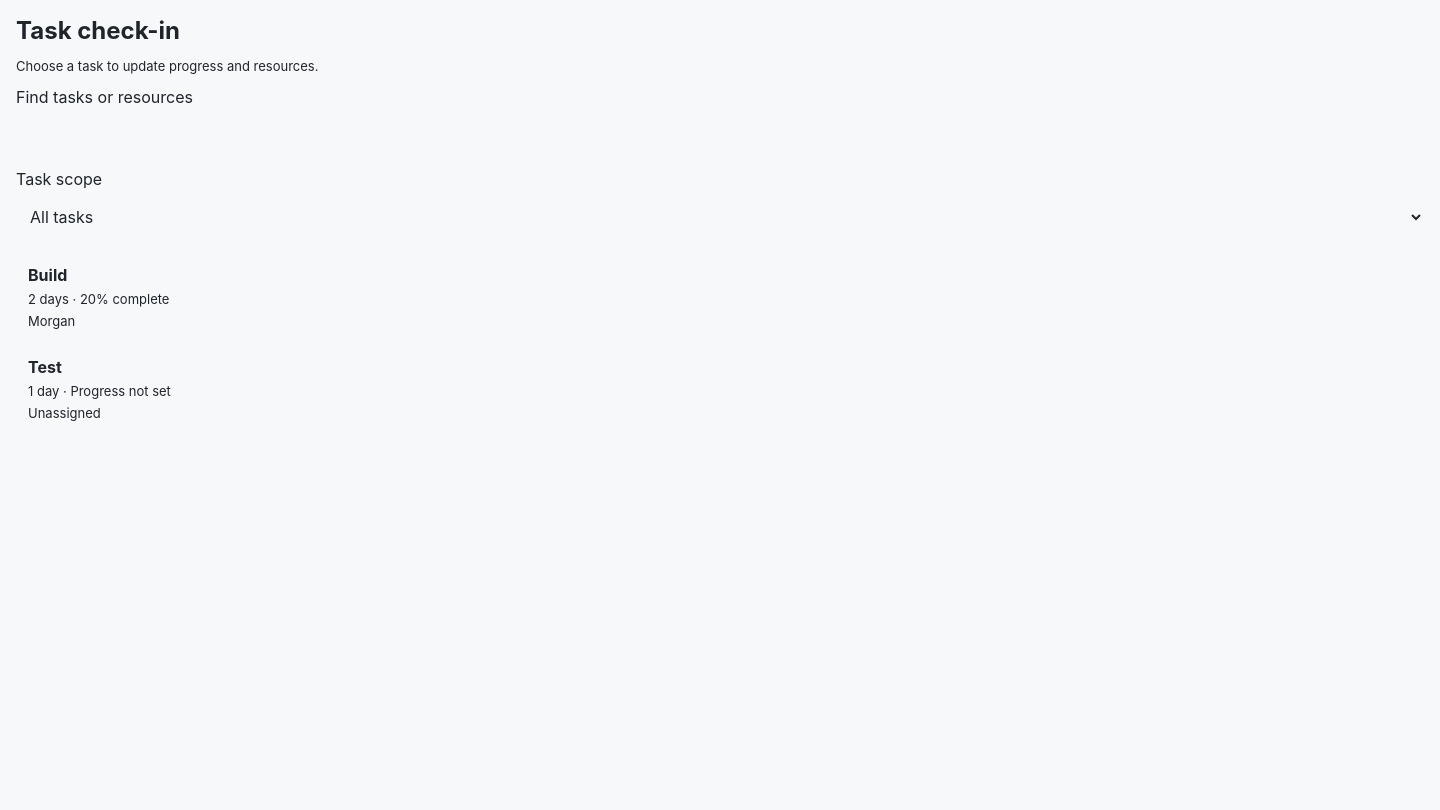
rejects invalid input and cancellation restores focus without applying
This screenshot has width=1440, height=810.
Step 1. Click the button with aria-label "Open task Build" → coordinates (48, 275), box [16,255,1424,339]
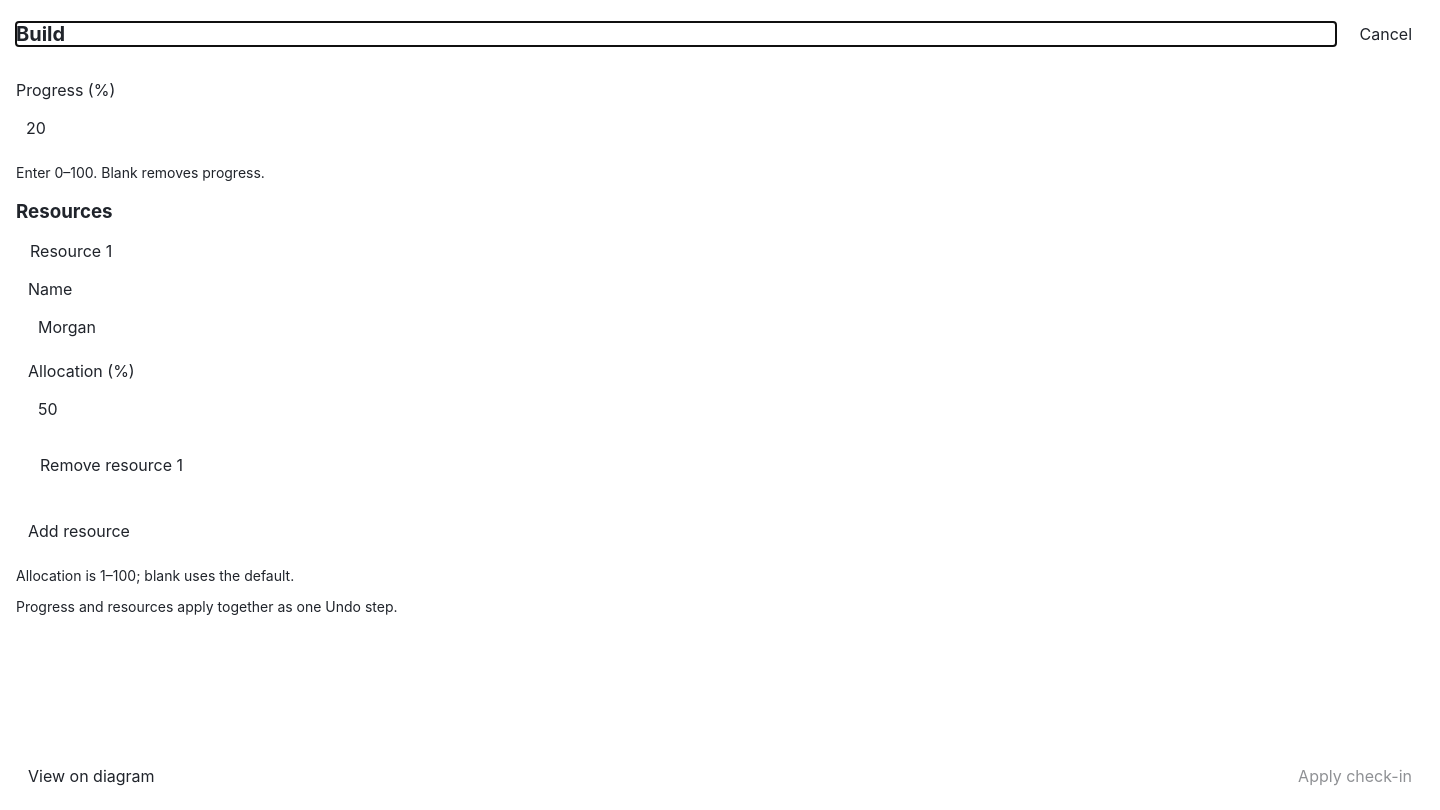
Step 2. Replace the text in the field labelled "Progress (%)" with "150" → coordinates (720, 128), box [16,106,1424,150]
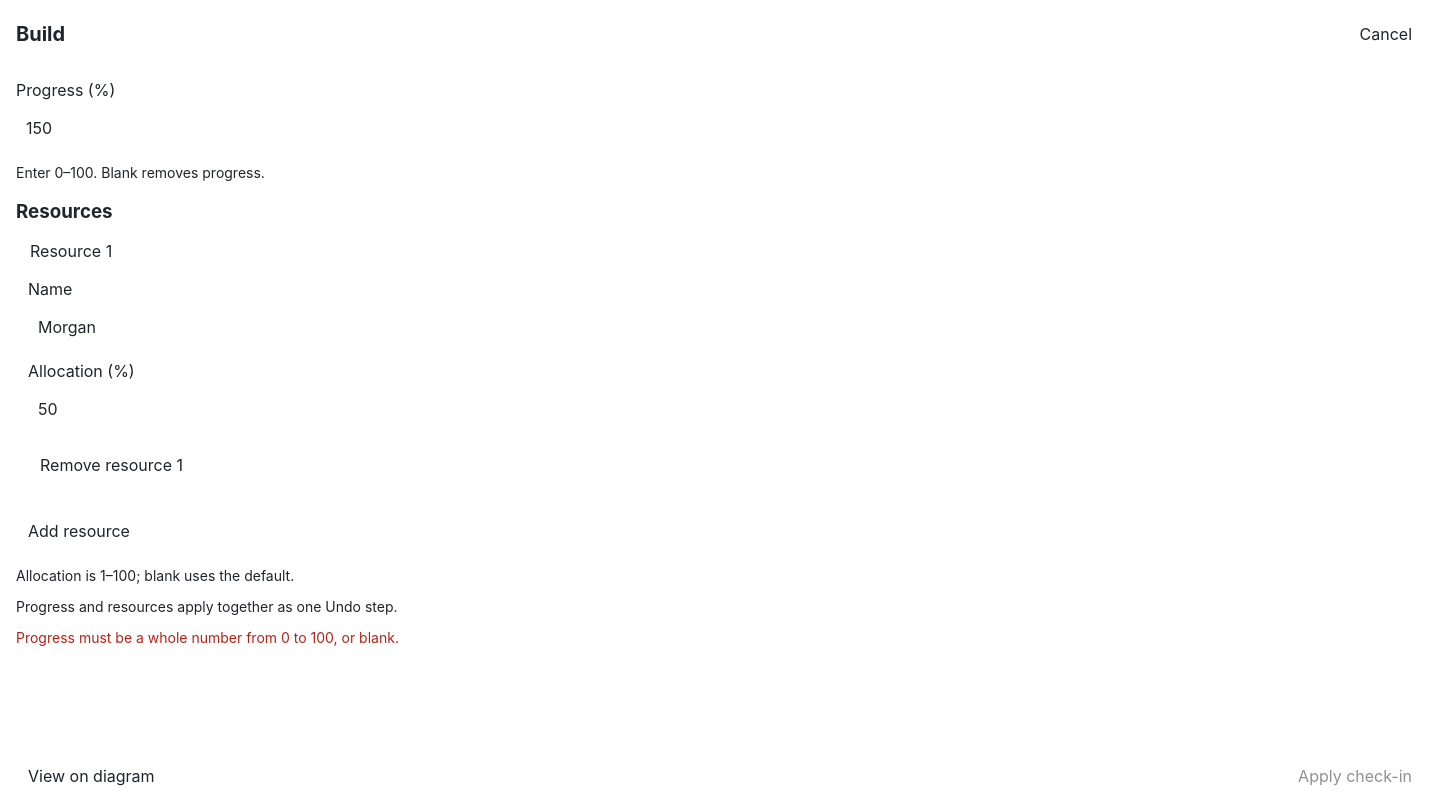
Check: the button "Apply check-in" is disabled, box [1286,754,1424,798]
Check: the message shows "0 to 100", box [16,629,399,646]
Step 3. Press Escape
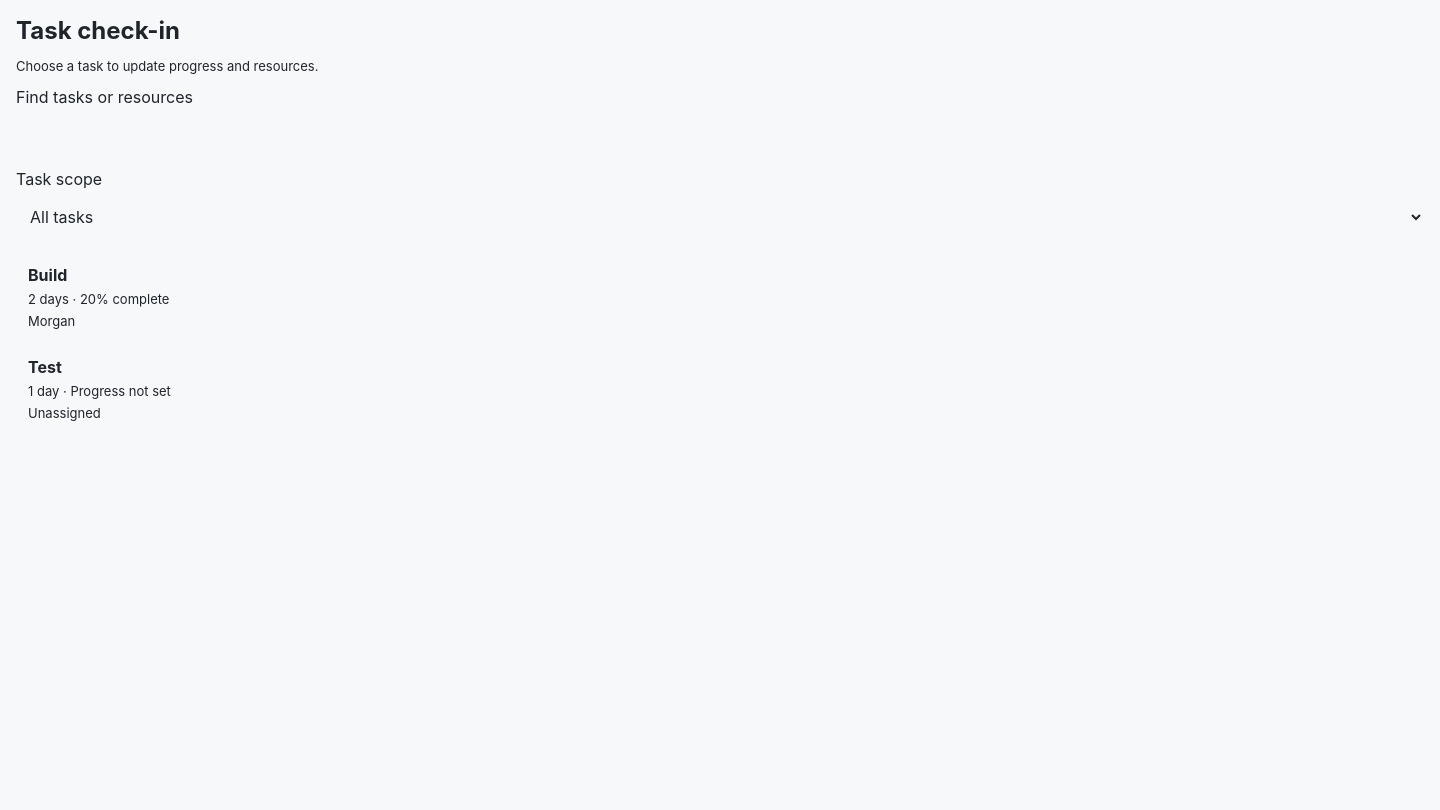
Check: the dialog is gone
